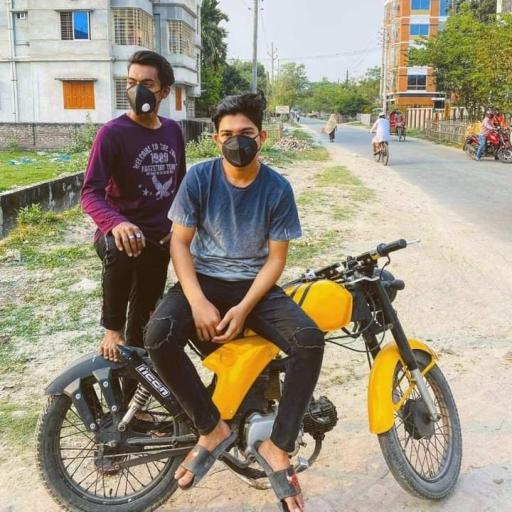helmet: (220, 132, 262, 168)
overloading: (33, 234, 464, 511)
